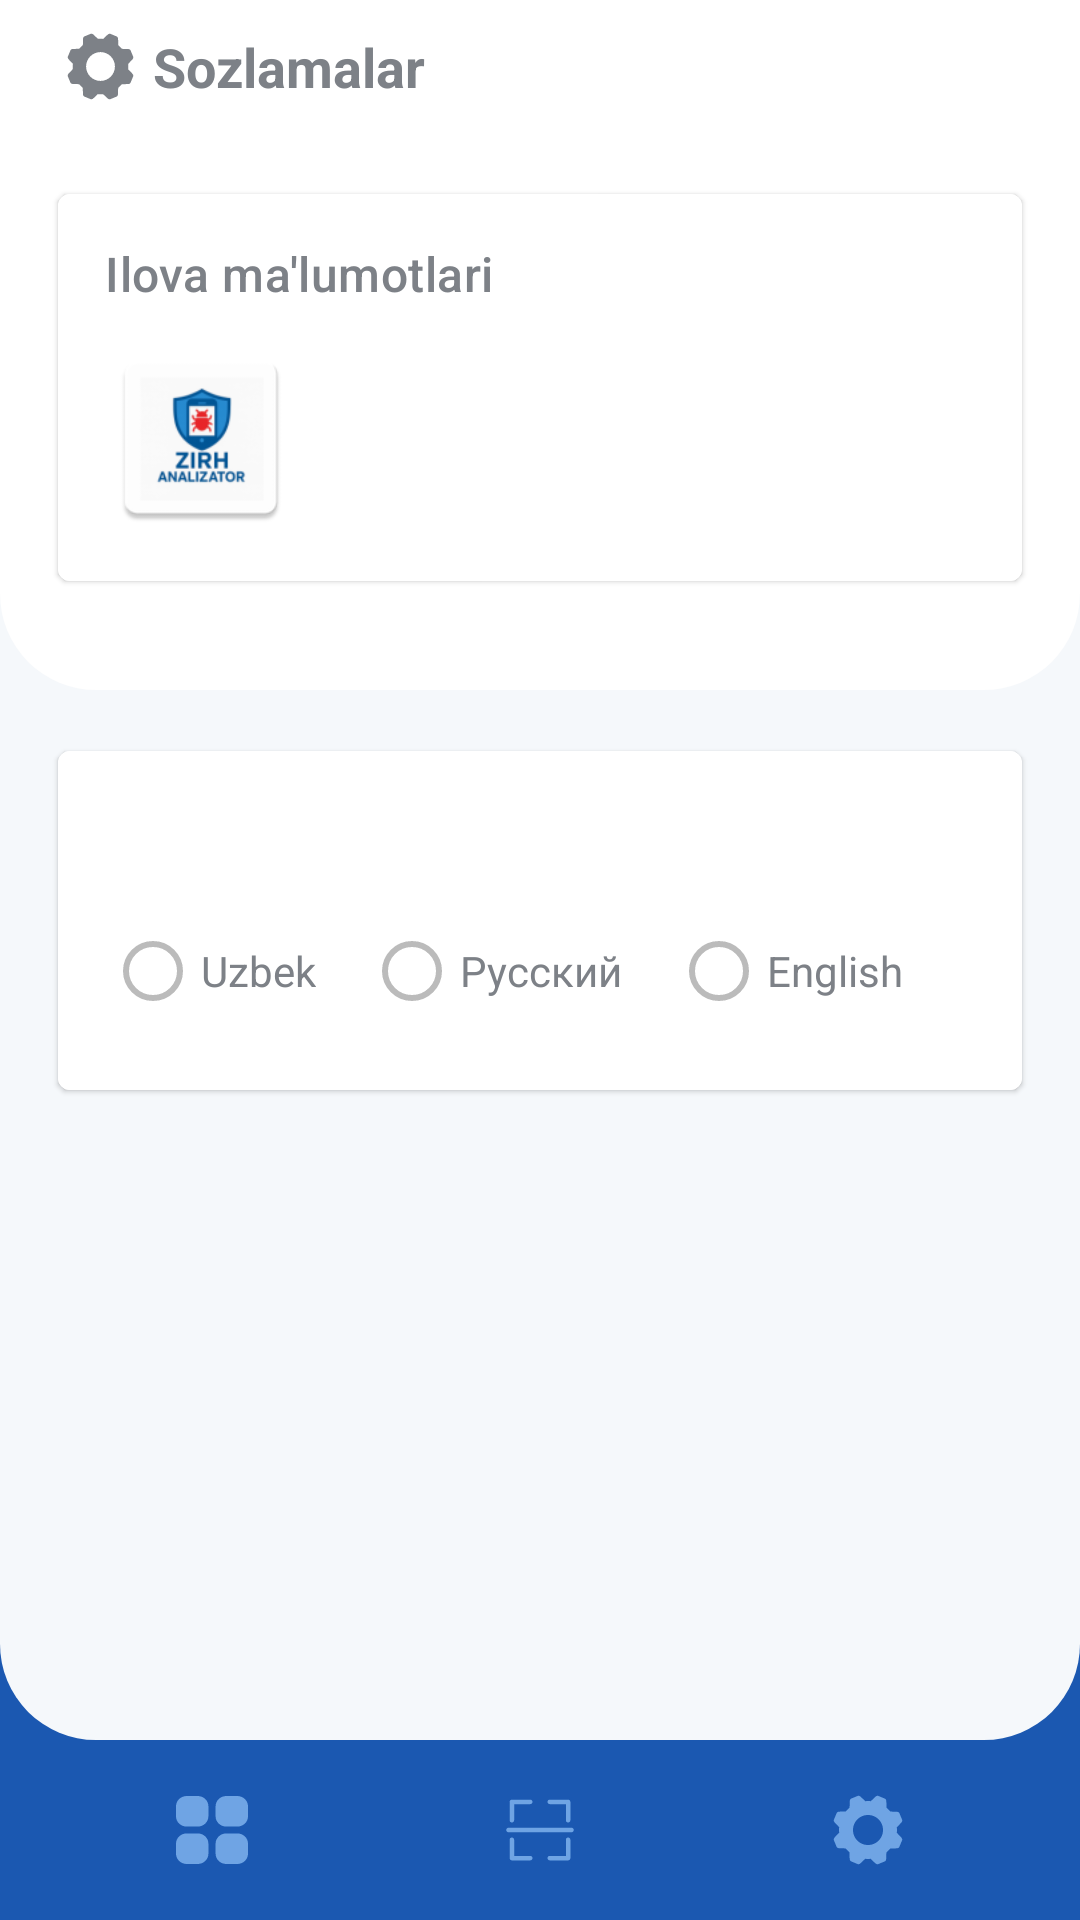

Where icons sit on this 1080 × 1920 app screen, as Rect(x1, y1, x2, y2):
menu: Rect(176, 1796, 248, 1864)
scan: Rect(506, 1800, 574, 1861)
settings: Rect(834, 1796, 902, 1864)
